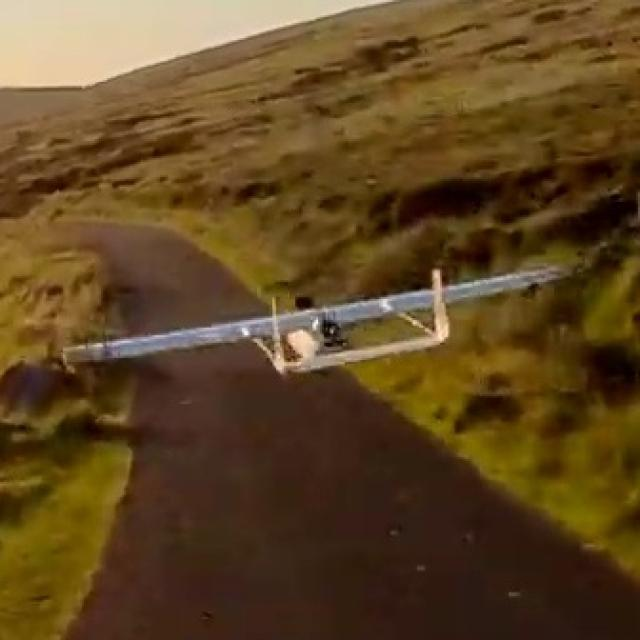iha: (60, 294, 584, 350)
